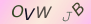B: (71, 2, 85, 17)
J: (62, 11, 72, 22)
O: (11, 4, 24, 17)
V: (23, 7, 36, 22)
W: (36, 5, 52, 19)
